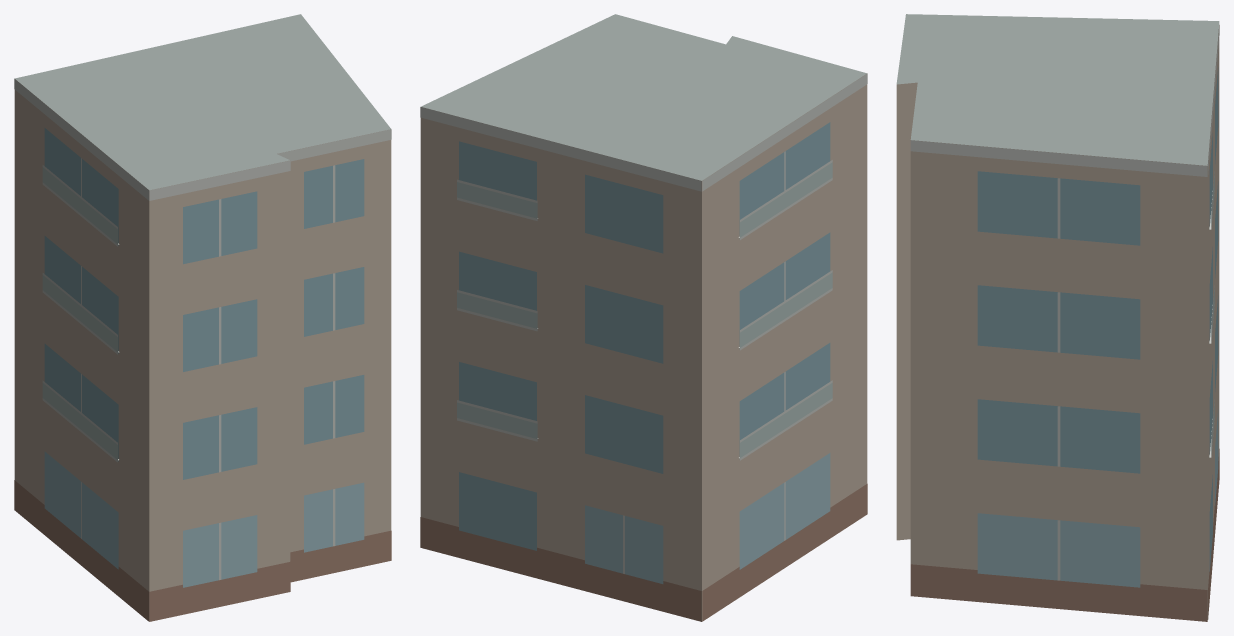
File: survey-upis-32983149.glb
The picture shows the model from 3 angles, left to right: view 1: azimuth 30°, elevation 25°; view 2: azimuth 150°, elevation 25°; view 3: azimuth 270°, elevation 25°; orthographic projection. The views are drawn at different scales.
Parts seen in each view (by area): view 1: survey-upis-32983149.tmp; view 2: survey-upis-32983149.tmp; view 3: survey-upis-32983149.tmp.
Part boxes in pixels (x1,y1,x2,y2): survey-upis-32983149.tmp: (14,14,391,621); survey-upis-32983149.tmp: (420,14,867,621); survey-upis-32983149.tmp: (896,14,1219,621).
Bounding box in the file's own units: 7.08 × 9.9 × 6.37.
